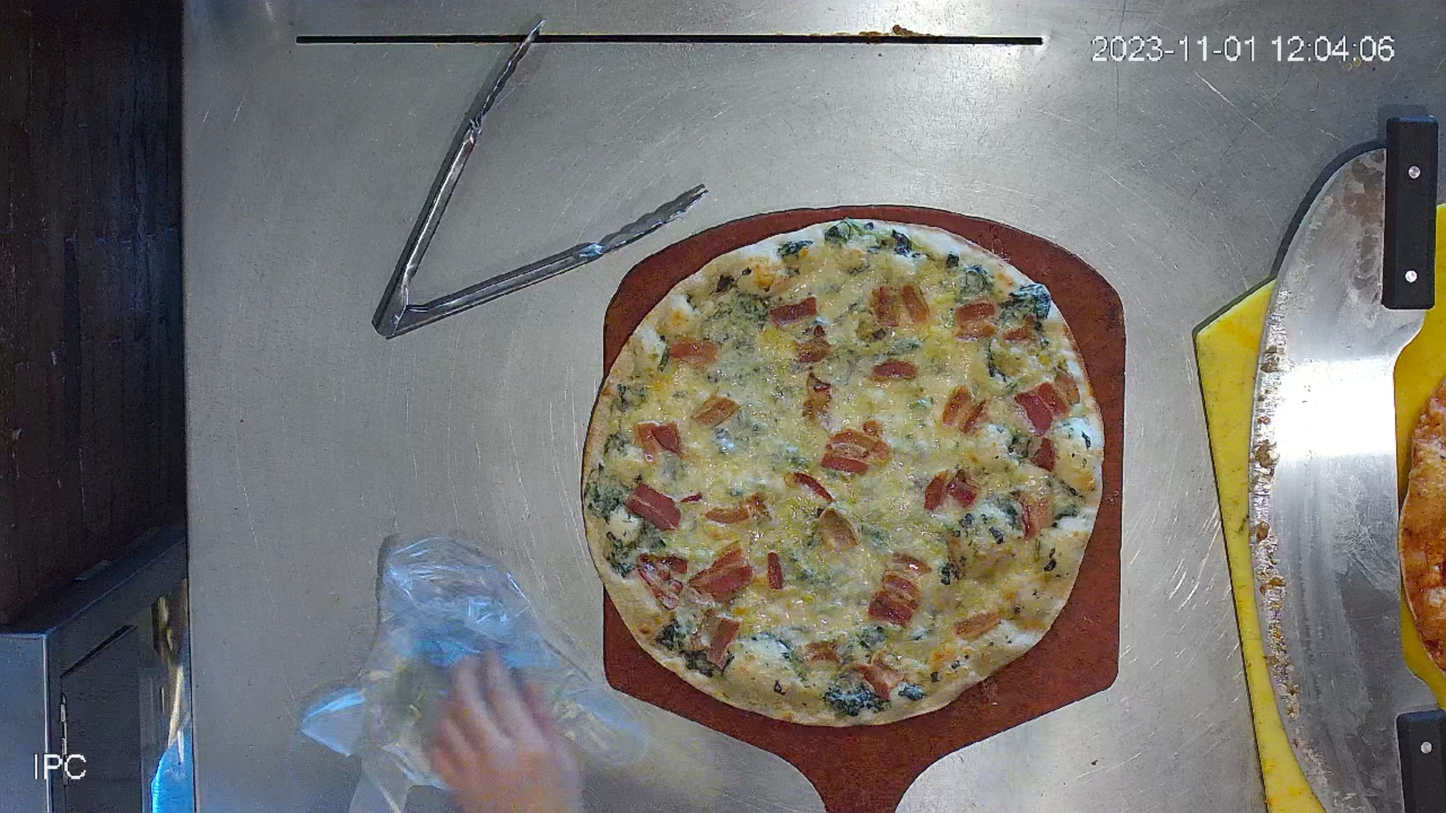pepporoni: (577, 219, 1104, 727)
